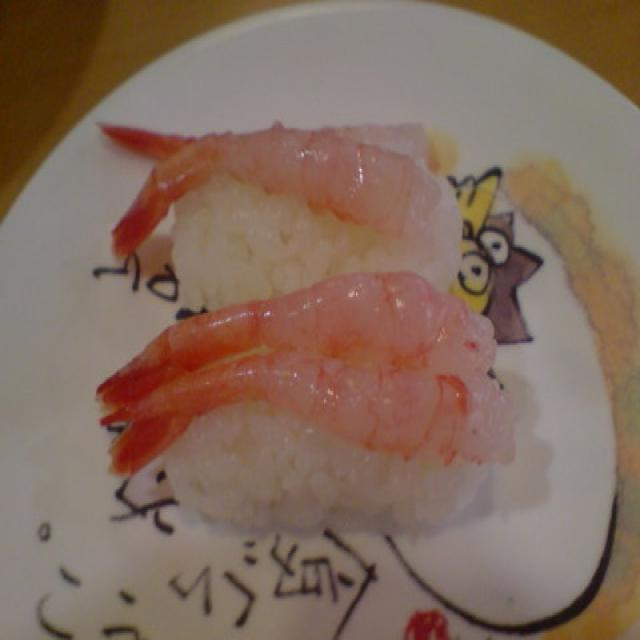Sushi: (131, 130, 446, 501)
